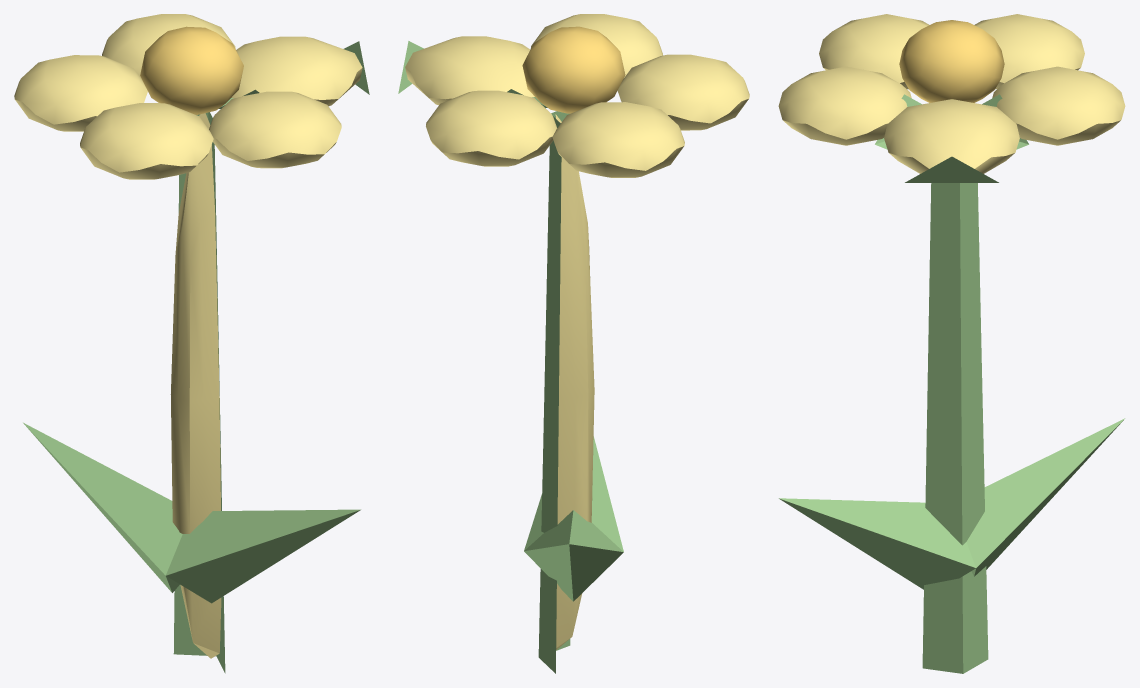
File: FlowerYellow.fbx
3 views of the same model, side by side, from view 1: azimuth 30°, elevation 25°; view 2: azimuth 150°, elevation 25°; view 3: azimuth 270°, elevation 25° (orthographic).
Visible parts, largest first — view 1: FlowerYellow; view 2: FlowerYellow; view 3: FlowerYellow.
Boxes of the visible parts, box(x1,y1,x2,y2) form: FlowerYellow: box(14, 14, 369, 673); FlowerYellow: box(398, 14, 749, 673); FlowerYellow: box(778, 14, 1125, 673).
Bounding box in the file's own units: 0.1729 × 0.3458 × 0.1721.
